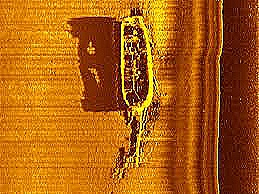ship: (118, 14, 154, 166)
